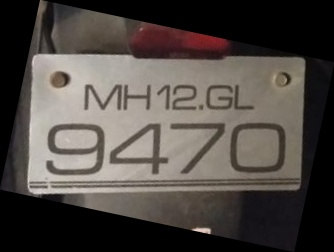character: (43, 121, 103, 175), (109, 121, 167, 175), (167, 120, 225, 173), (229, 121, 287, 173), (82, 82, 122, 112), (122, 82, 151, 110), (206, 82, 232, 110), (171, 84, 198, 110), (233, 82, 256, 111), (155, 83, 170, 110)
